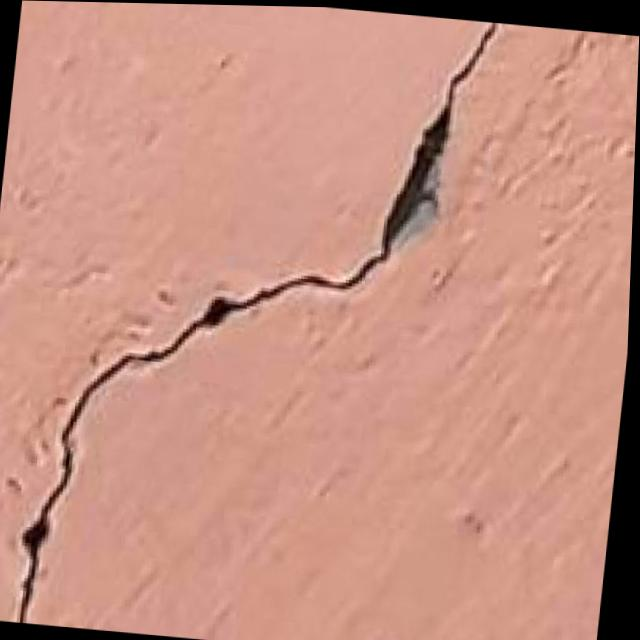Crack: (3, 0, 508, 640)
